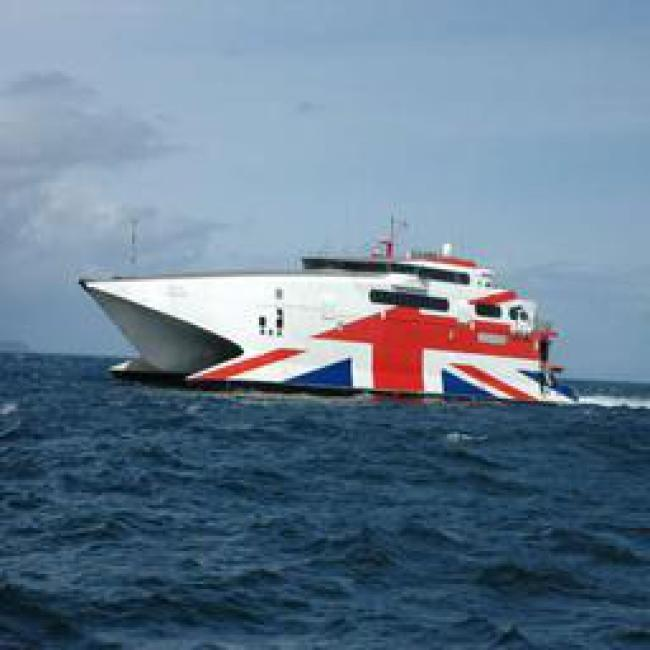Ship: (68, 229, 577, 413)
